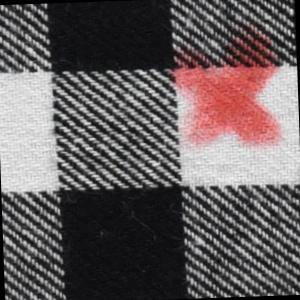Stain: (166, 24, 289, 155)
